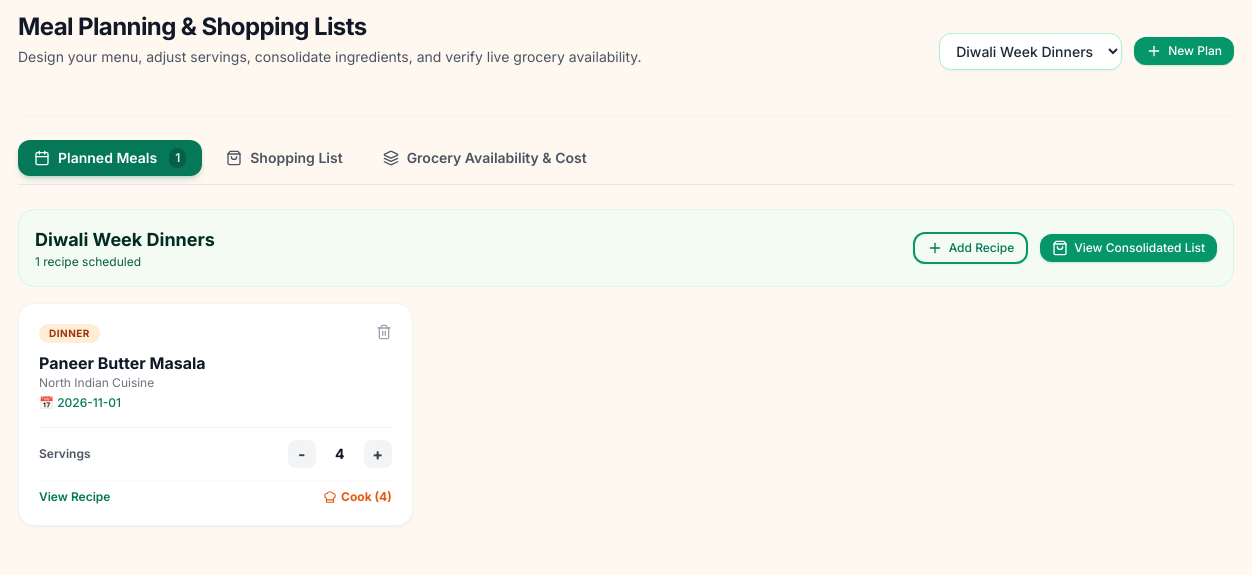
MealPlanPage Component › switches to shopping list tab and displays consolidated items
Expected: the heading "Paneer Butter Masala" is shown, left=39, top=353, right=206, bottom=373
Click the button "Shopping List": (284, 158) left=210, top=140, right=359, bottom=176
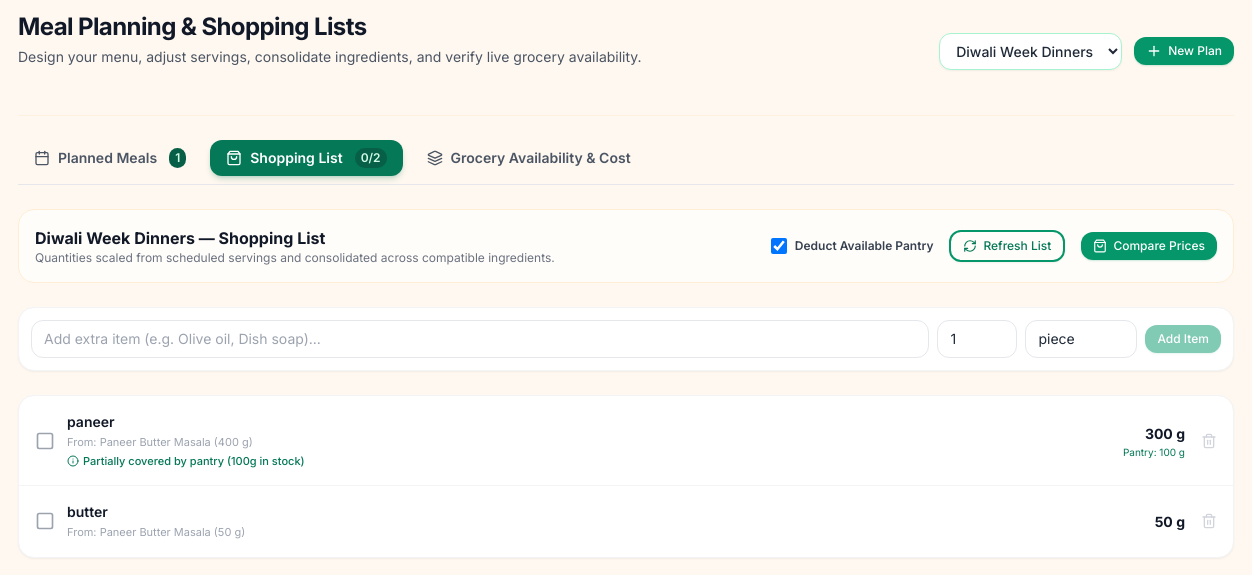
Result: the text "paneer" is shown at left=67, top=412, right=115, bottom=432
Result: the text "butter" is shown at left=67, top=502, right=108, bottom=522
Result: the text "300 g" is shown at left=1145, top=425, right=1185, bottom=442
